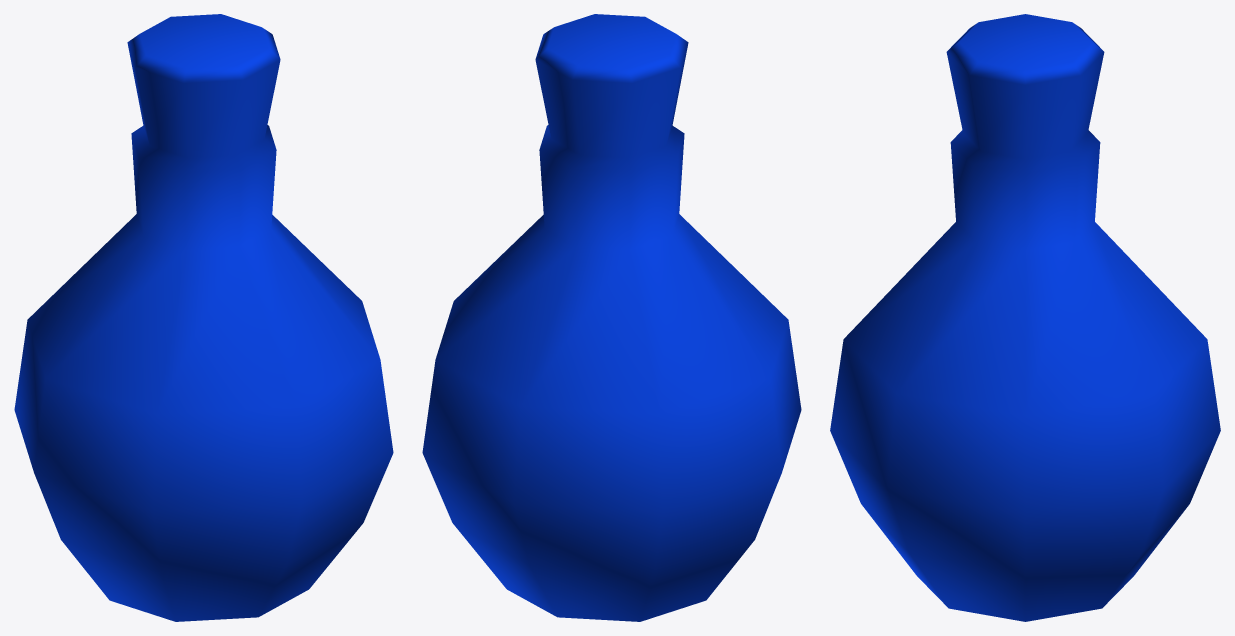
Rendered from Potion_03.fbx.
The picture shows the model from 3 angles, left to right: view 1: azimuth 30°, elevation 25°; view 2: azimuth 150°, elevation 25°; view 3: azimuth 270°, elevation 25°; orthographic projection.
Parts seen in each view (by area): view 1: Potion_03; view 2: Potion_03; view 3: Potion_03.
Boxes of the visible parts, bbox=[...] form: Potion_03: bbox=[14, 14, 393, 621]; Potion_03: bbox=[422, 14, 801, 621]; Potion_03: bbox=[830, 14, 1220, 621].
Bounding box in the file's own units: 18.14 × 27.36 × 18.14.
